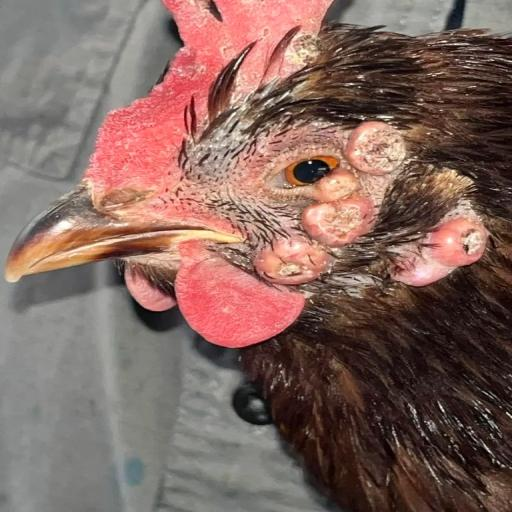disease: (218, 198, 376, 289), (379, 170, 497, 286), (143, 0, 230, 101), (329, 100, 433, 174), (272, 13, 351, 71), (265, 165, 387, 197)
